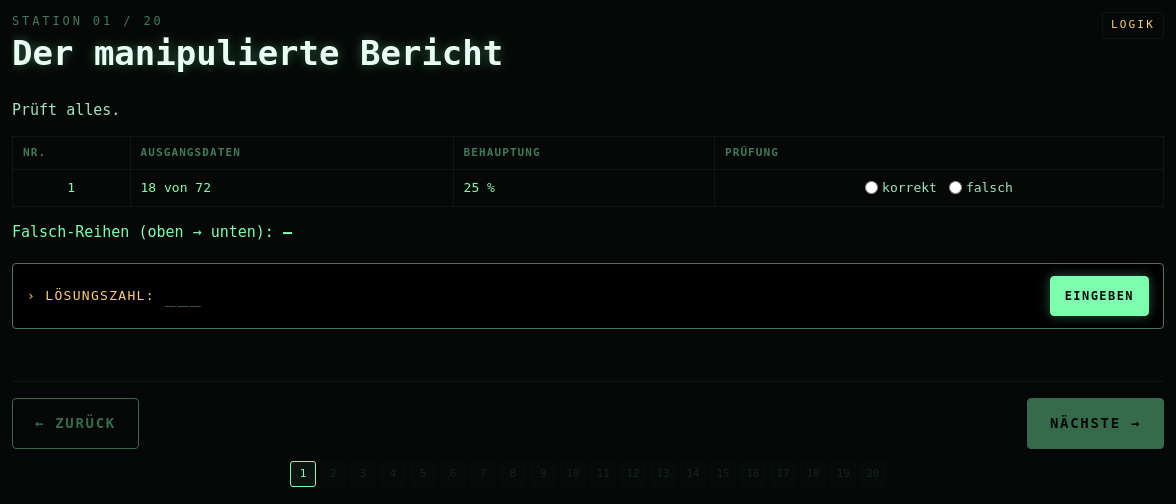
Test case: StationView › Netzfehler → Hinweis zum Wiederholen
In the field with placeholder "___": (602, 296) [165,283,1040,310], type "26"
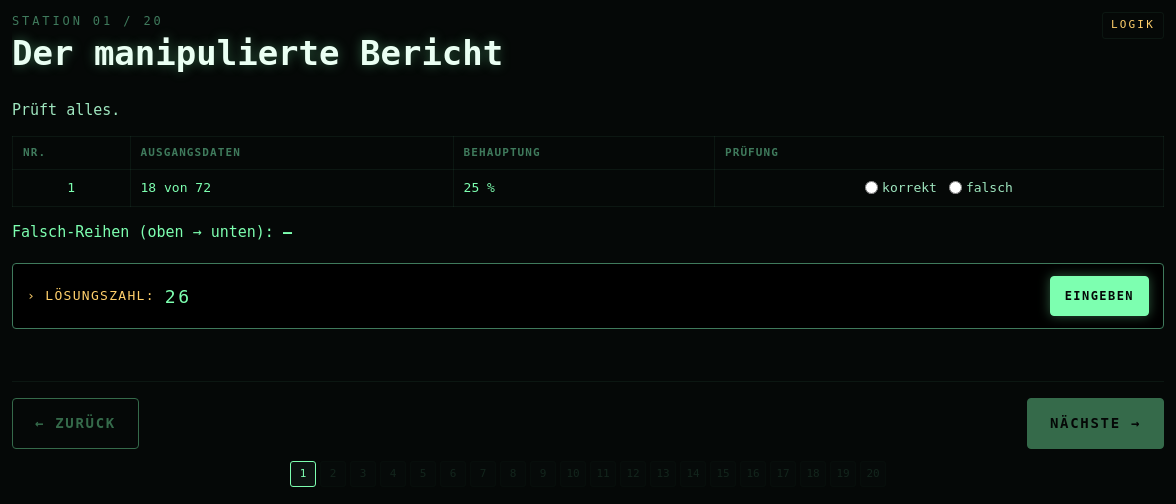
Click the button "Eingeben": (1099, 296) [1050,276,1149,316]
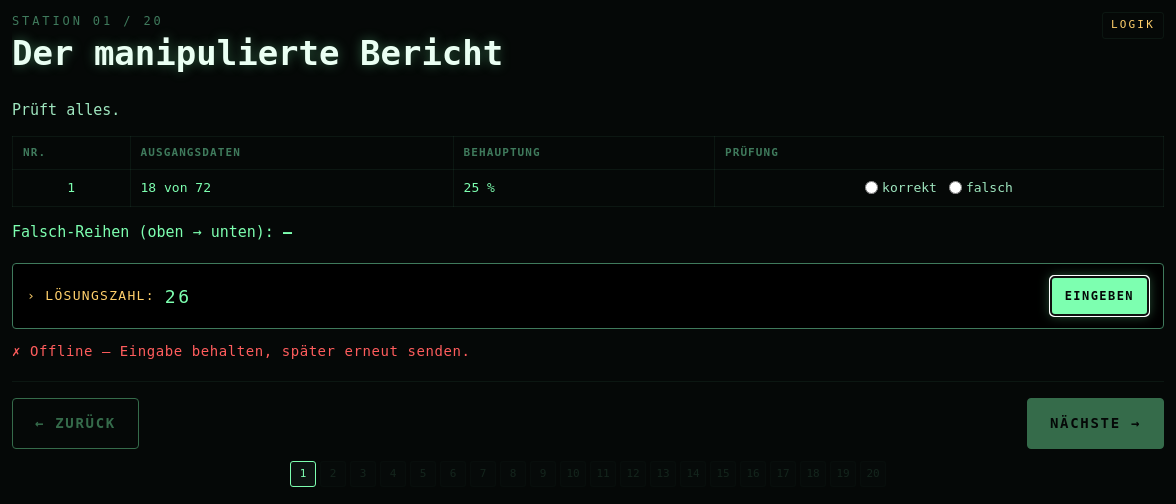
Expected: the text "✗ Offline — Eingabe behalten, später erneut senden." is shown, [12,343,470,359]
